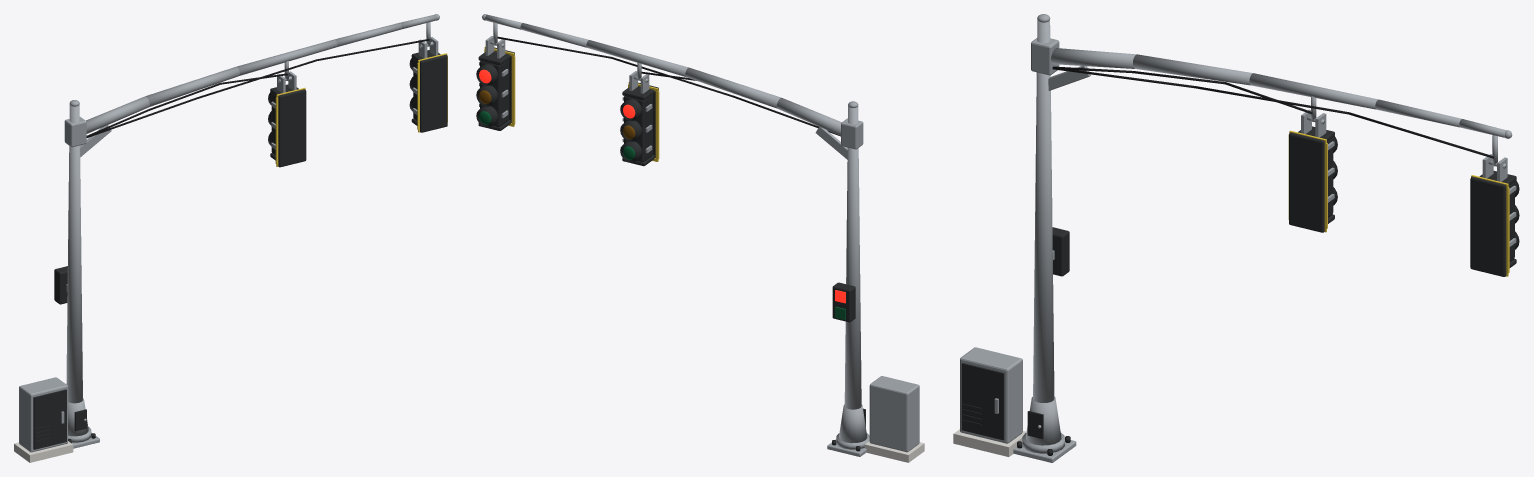
Rendered from traffic_signal_long.glb.
The picture shows the model from 3 angles, left to right: view 1: azimuth 30°, elevation 25°; view 2: azimuth 150°, elevation 25°; view 3: azimuth 330°, elevation 25°; orthographic projection. The views are drawn at different scales.
Parts seen in each view (by area): view 1: Merged_SignalMetal, Merged_SignalHousing, Merged_SignalCable, Merged_SignalReflector, signal_cabinet_plinth; view 2: Merged_SignalMetal, Merged_SignalHousing, Merged_SignalCable, Merged_SignalReflector, signal_cabinet_plinth; view 3: Merged_SignalMetal, Merged_SignalHousing, Merged_SignalCable, Merged_SignalReflector, signal_cabinet_plinth.
Boxes of the visible parts, x1,y1,x2,y2 form: Merged_SignalMetal: [19, 14, 439, 452]; Merged_SignalHousing: [33, 50, 447, 449]; Merged_SignalCable: [86, 39, 429, 137]; Merged_SignalReflector: [275, 53, 447, 166]; signal_cabinet_plinth: [14, 441, 73, 462]; Merged_SignalMetal: [479, 14, 919, 456]; Merged_SignalHousing: [476, 47, 865, 451]; Merged_SignalCable: [497, 36, 840, 136]; Merged_SignalReflector: [484, 46, 659, 161]; signal_cabinet_plinth: [864, 441, 924, 462]; Merged_SignalMetal: [960, 14, 1516, 462]; Merged_SignalHousing: [961, 126, 1519, 455]; Merged_SignalCable: [1052, 66, 1493, 158]; Merged_SignalReflector: [1288, 130, 1509, 276]; signal_cabinet_plinth: [953, 429, 1026, 456].
Size of the model in its own units: 8.05 by 6.13 by 0.84.
